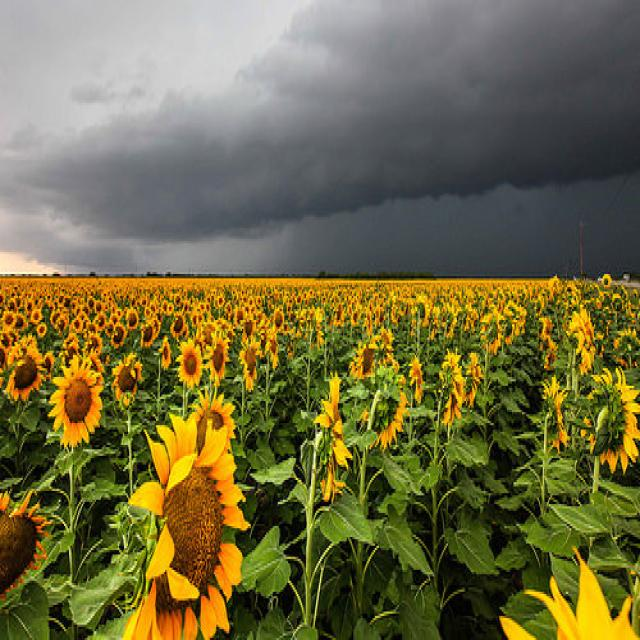sunflower: (125, 407, 249, 640), (0, 485, 51, 607), (582, 365, 639, 474), (47, 351, 104, 449), (312, 370, 351, 506), (358, 371, 412, 452), (186, 392, 238, 472), (3, 338, 48, 408), (539, 374, 569, 454), (437, 347, 465, 428), (566, 304, 596, 372), (173, 338, 203, 394), (111, 353, 144, 401), (345, 343, 381, 385), (462, 348, 486, 410), (235, 336, 260, 392), (203, 331, 230, 381), (613, 326, 640, 371), (479, 310, 501, 356), (407, 360, 426, 412), (267, 332, 280, 372), (500, 316, 516, 348), (442, 310, 458, 341), (50, 308, 69, 334), (160, 333, 173, 371), (378, 324, 395, 353), (139, 319, 155, 349), (413, 296, 429, 326), (111, 320, 126, 351), (599, 268, 616, 295), (256, 326, 270, 358), (171, 311, 186, 340), (592, 332, 606, 363), (242, 316, 260, 340), (124, 308, 140, 332), (272, 309, 284, 340), (2, 306, 16, 332), (610, 290, 625, 314), (29, 304, 45, 326), (43, 348, 56, 375), (374, 298, 386, 327), (233, 304, 247, 328), (88, 331, 103, 353), (148, 316, 162, 338), (504, 300, 518, 322), (364, 304, 373, 338), (15, 309, 27, 333), (532, 296, 544, 320), (94, 310, 107, 332), (537, 316, 547, 342), (72, 314, 83, 336), (351, 308, 362, 330), (390, 302, 400, 326), (36, 321, 49, 337), (164, 298, 174, 318), (333, 304, 342, 326), (224, 299, 234, 317), (89, 293, 98, 312), (174, 292, 184, 309), (192, 312, 200, 332), (288, 310, 298, 326), (94, 299, 103, 315), (160, 298, 169, 314), (403, 298, 410, 318), (217, 295, 226, 310), (14, 296, 24, 309), (203, 302, 212, 316), (150, 299, 157, 317), (110, 312, 120, 324), (296, 291, 303, 307), (564, 285, 574, 296), (188, 294, 195, 309), (129, 296, 137, 309), (206, 292, 213, 306), (0, 291, 6, 306), (198, 302, 205, 314), (58, 292, 65, 304), (10, 288, 16, 302), (46, 292, 53, 304), (248, 296, 254, 309), (256, 295, 262, 308), (321, 295, 328, 306), (230, 287, 237, 298), (142, 297, 149, 308), (287, 297, 295, 306), (72, 300, 78, 312), (308, 289, 314, 298), (241, 289, 244, 296)
